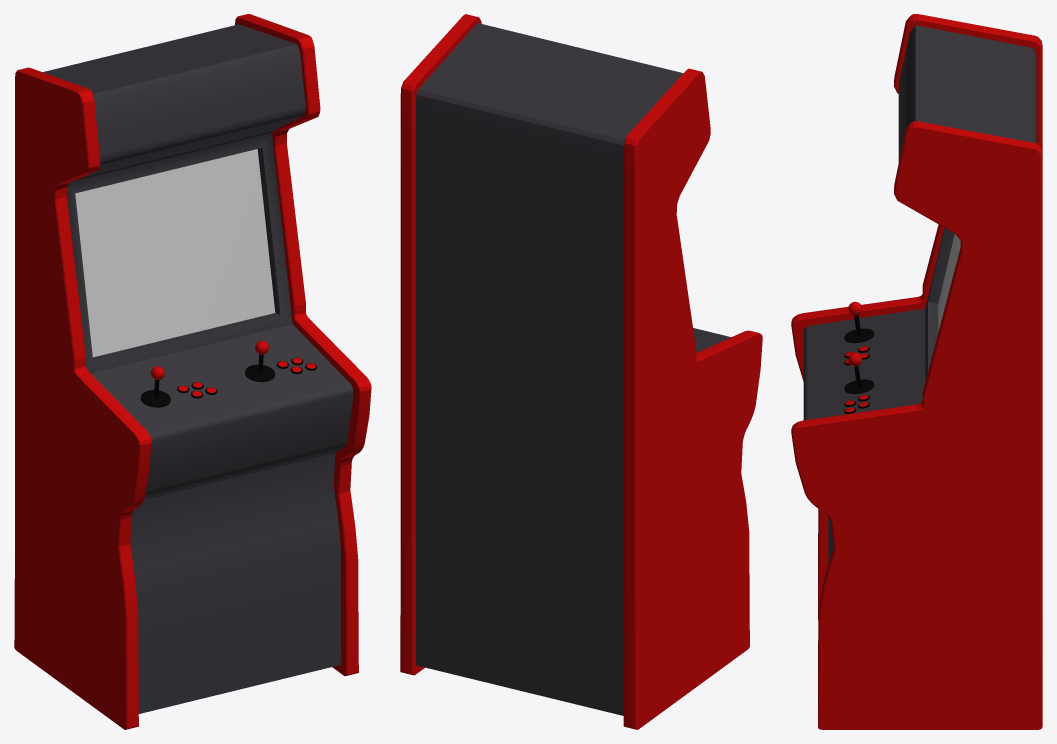
Rendered from arcade.obj.
3 renders of one model, left to right at view 1: azimuth 30°, elevation 25°; view 2: azimuth 150°, elevation 25°; view 3: azimuth 270°, elevation 25°, orthographic.
Parts seen in each view (by area): view 1: body, side, screen, Buttons; view 2: body, side; view 3: side, body, screen, Buttons.
Boxes of the visible parts, x1,y1,x2,y2 form: body: [43, 24, 353, 713]; side: [14, 14, 371, 729]; screen: [75, 149, 275, 357]; Buttons: [177, 357, 316, 398]; body: [416, 23, 730, 715]; side: [400, 14, 762, 729]; side: [791, 14, 1042, 729]; body: [803, 25, 1036, 563]; screen: [938, 234, 960, 331]; Buttons: [844, 346, 869, 413].
Bounding box in the file's own units: 2.26 × 5.58 × 2.11.
